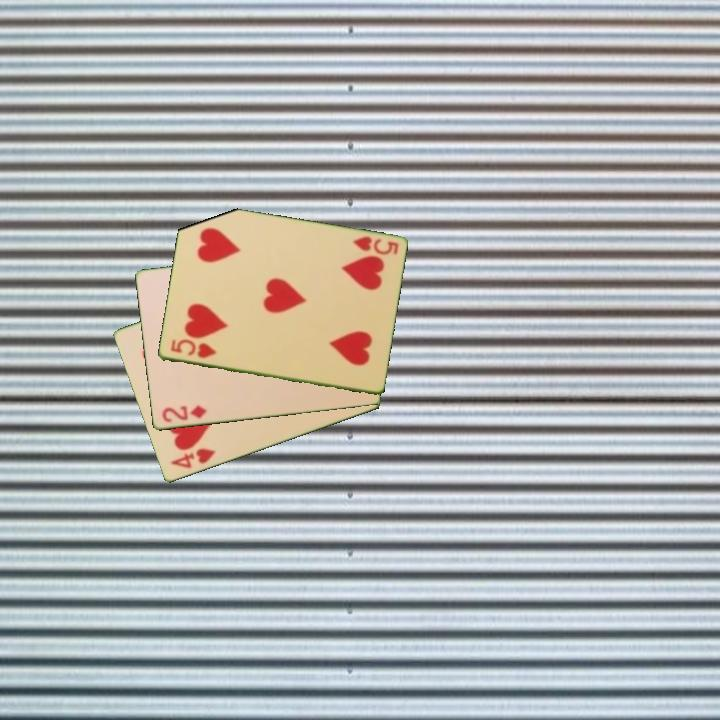2d: (158, 402, 209, 425)
4h: (167, 445, 218, 472)
5h: (167, 336, 219, 361), (349, 233, 401, 258)
